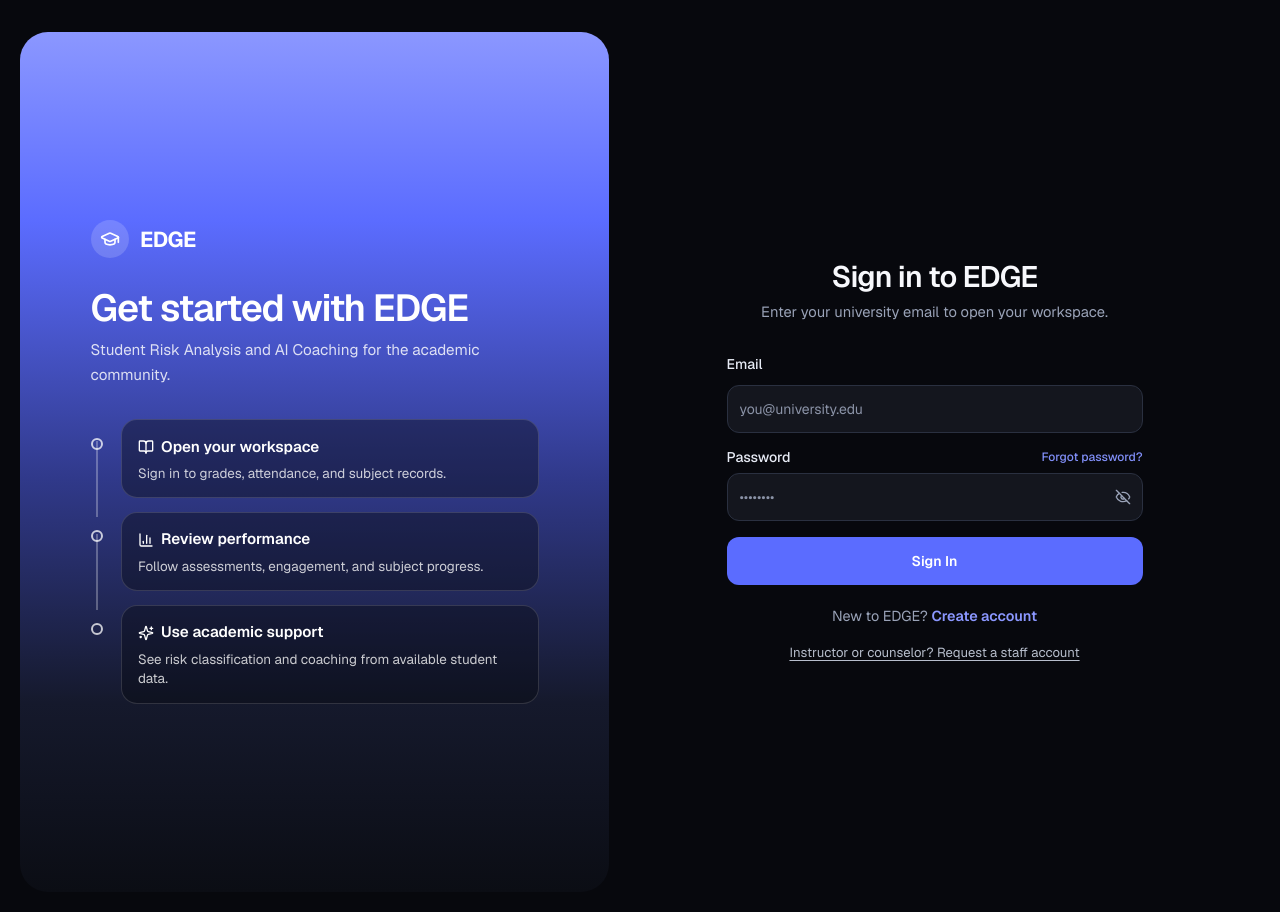
Login signup form › student signup requires a Parent/Guardian Gmail
Click the button with aria-label "switch to sign up": (984, 616) [932,605,1037,628]
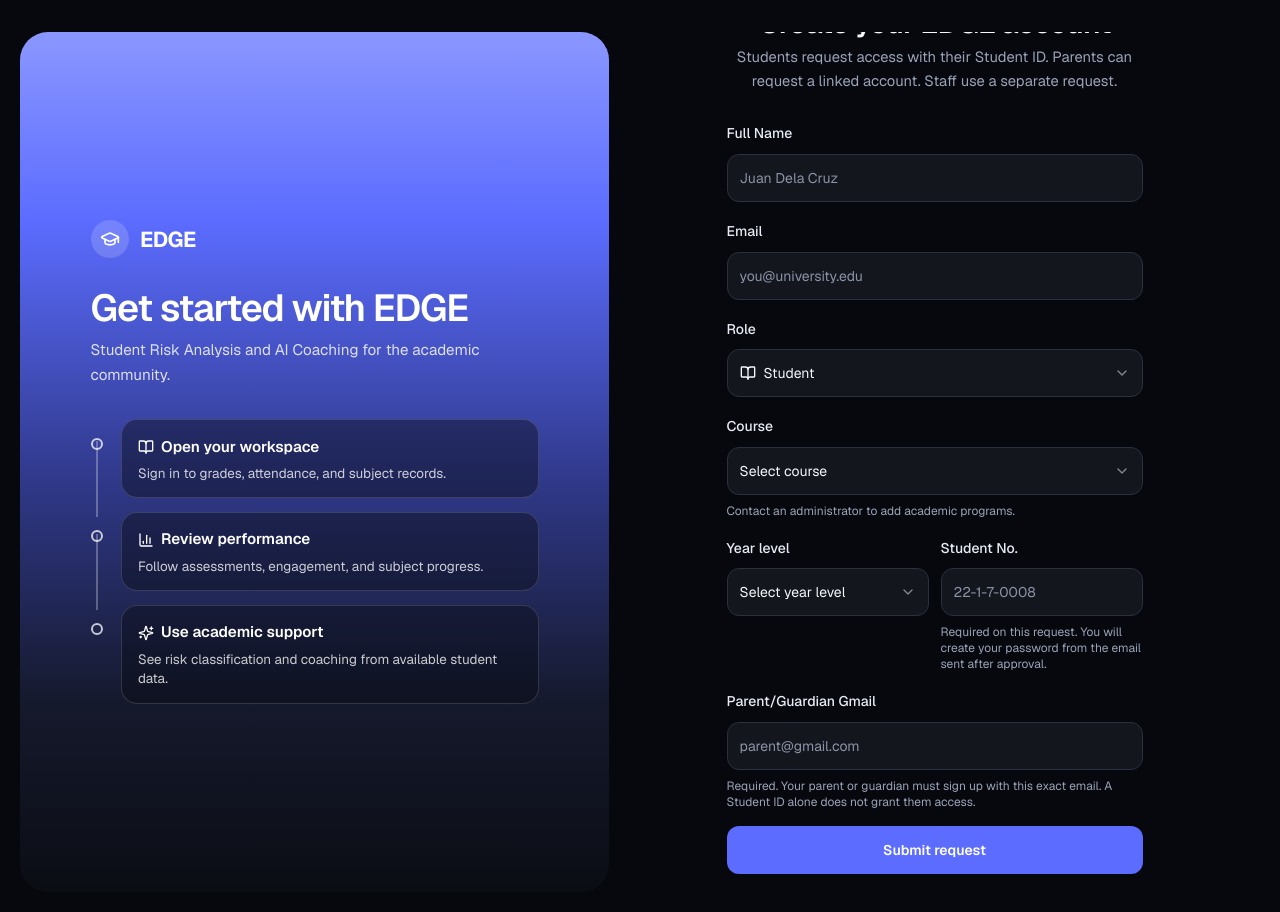
Now the field labelled "Student No." is shown, box [940,568,1142,616]
